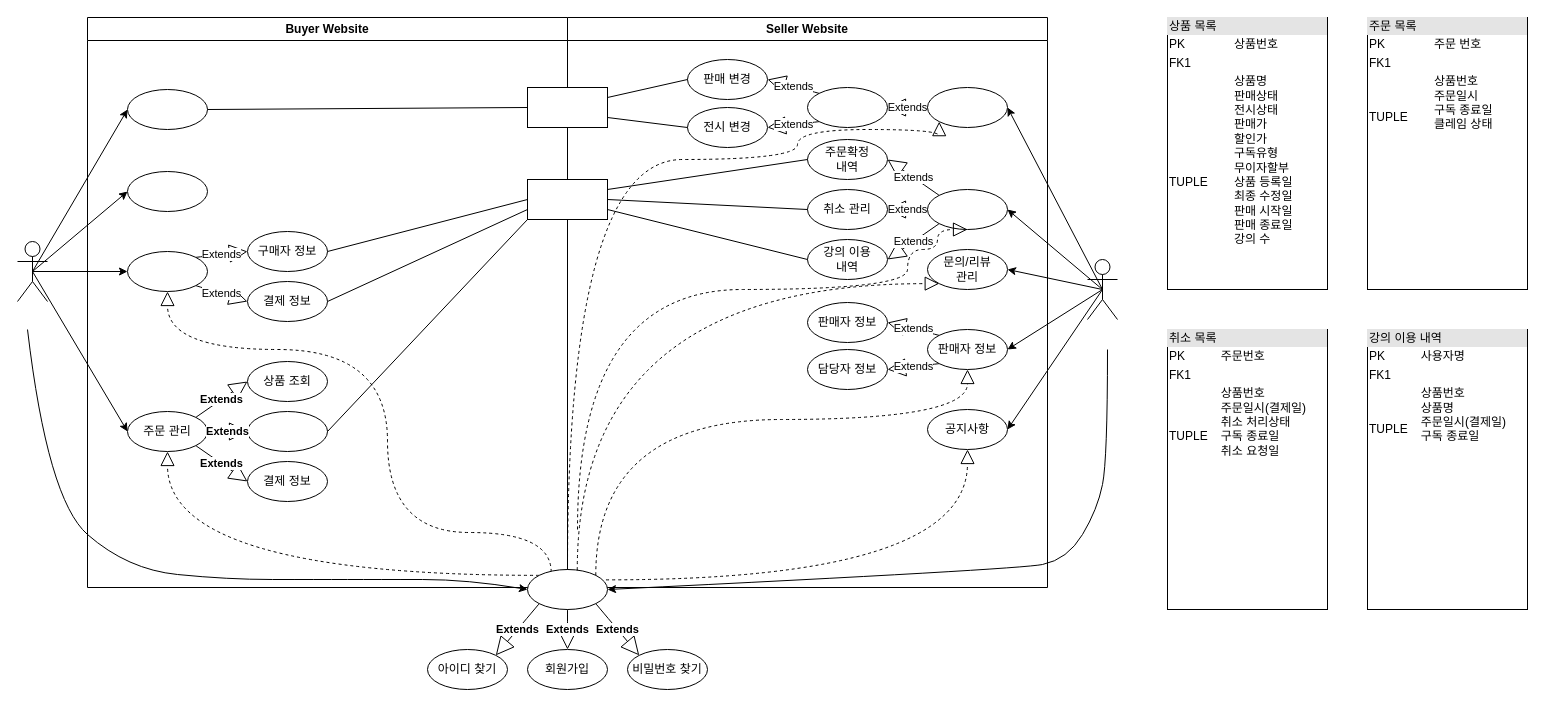
The diagram is 1545 pixels wide and 707 high, and some of its shapes have lost their labels. Here are the shapes that lost their labels. From the top down, the centre of each, then its label:
point (167, 109): 이미지 상품 조회
point (567, 107): 상품 조회 시스템
point (847, 107): 상품 조회/수정
point (967, 107): 상품 관리
point (167, 191): 상품 상세 조회
point (567, 199): 상품 결제 관리 시스템
point (967, 209): 판매 관리
point (32, 271): Buyer
point (167, 271): 제품 선택 및 구매
point (1102, 289): Seller
point (287, 431): 교환/반품 신청
point (567, 589): 로그인
